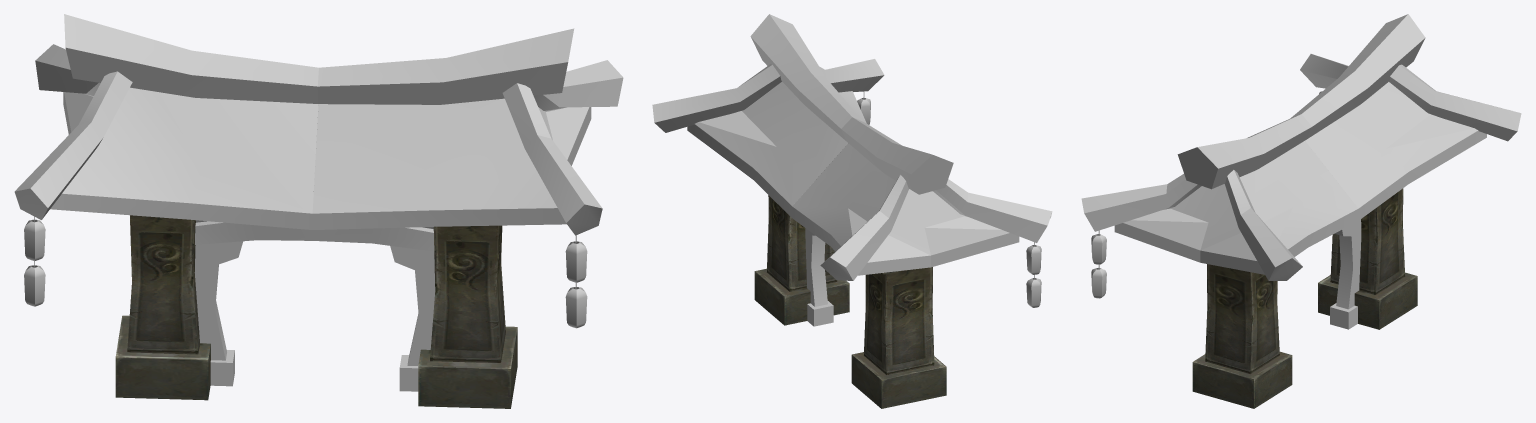
The model's file is environment_building_minju_003_e.FBX.
3 views of the same model, side by side, from view 1: azimuth 30°, elevation 25°; view 2: azimuth 150°, elevation 25°; view 3: azimuth 270°, elevation 25° (orthographic). The views are drawn at different scales.
Visible parts, largest first — view 1: environment_building_minju_003_01, environment_building_minju_003_29, environment_building_minju_003_13, environment_building_minju_003_02, environment_building_minju_003_28, environment_building_minju_003_11, environment_building_minju_003_20; view 2: environment_building_minju_003_01, environment_building_minju_003_29, environment_building_minju_003_02, environment_building_minju_003_13, environment_building_minju_003_28, environment_building_minju_003_20, environment_building_minju_003_11; view 3: environment_building_minju_003_01, environment_building_minju_003_29, environment_building_minju_003_02, environment_building_minju_003_13, environment_building_minju_003_28, environment_building_minju_003_20, environment_building_minju_003_11.
Boxes of the visible parts, box(x1,y1,x2,y2) form: environment_building_minju_003_01: box(50, 87, 591, 229); environment_building_minju_003_29: box(115, 215, 517, 408); environment_building_minju_003_13: box(64, 14, 574, 228); environment_building_minju_003_02: box(14, 44, 623, 235); environment_building_minju_003_28: box(194, 241, 435, 365); environment_building_minju_003_11: box(195, 221, 434, 391); environment_building_minju_003_20: box(24, 219, 587, 328); environment_building_minju_003_01: box(687, 81, 1019, 275); environment_building_minju_003_29: box(754, 195, 946, 408); environment_building_minju_003_02: box(652, 59, 1052, 280); environment_building_minju_003_13: box(750, 14, 953, 194); environment_building_minju_003_28: box(805, 228, 827, 306); environment_building_minju_003_20: box(857, 97, 1041, 307); environment_building_minju_003_11: box(807, 301, 833, 326); environment_building_minju_003_01: box(1114, 82, 1486, 274); environment_building_minju_003_29: box(1192, 188, 1417, 408); environment_building_minju_003_02: box(1081, 54, 1521, 280); environment_building_minju_003_13: box(1177, 14, 1425, 189); environment_building_minju_003_28: box(1335, 219, 1361, 309); environment_building_minju_003_20: box(1091, 91, 1322, 298); environment_building_minju_003_11: box(1330, 303, 1357, 329).
Bounding box in the file's own units: 1518 × 916 × 1360.
